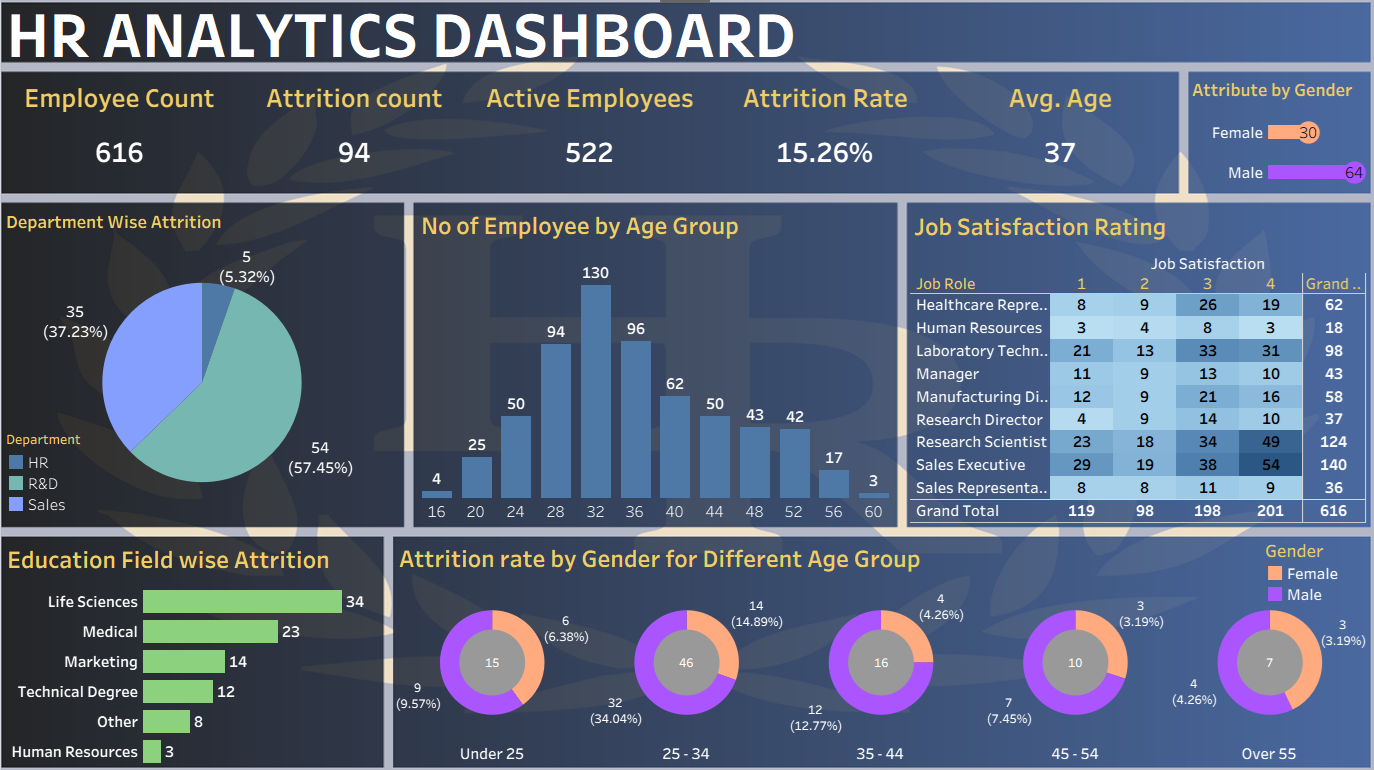

The page's visual inventory and layout, read from the dashboard file:
{"tool":"tableau","page":{"name":"Hr Analytics DashBoard","canvas":[1000,1000],"units":"permille","ordinal":0},"visuals":[{"type":"image","param":"C:/Users/Darahas/Downloads/HR background.png","box":[4.8,10,990.3,980]},{"type":"text","box":[88.1,23.7,525.6,72.4]},{"type":"worksheet","title":"Attribute by Gender","mark":"Automatic","rows":["Gender"],"cols":["Calculation_198721334134349824","Calculation_198721334134349824"],"box":[803.3,111.1,110.4,148.6]},{"type":"worksheet","title":"KPI","mark":"Automatic","box":[87.5,112.4,709.7,144.8]},{"type":"worksheet","title":"Department wise Attrition","mark":"Pie","box":[87.5,275.9,241.4,394.5]},{"type":"worksheet","title":"No of Employee by Age Group","mark":"Automatic","rows":["Employee Count"],"cols":["Age (bin)"],"box":[338,275.9,287.9,397]},{"type":"worksheet","title":"Job Satisfaction Rating","mark":"Square","rows":["Job Role"],"cols":["Job Satisfaction"],"box":[635.5,277.2,275.2,395.8]},{"type":"legend","title":"Department wise Attrition","param":"[federated.1pvep0o0px4wm916realb0cfxye9].[none:Department:nk]","box":[89.9,556.8,68.2,114.9]},{"type":"worksheet","title":"Attrition rate by Gender for Different Age Group","mark":"Pie","rows":["Calculation_198721334700163077","Calculation_198721334700163077"],"cols":["CF_age band"],"box":[324.7,691.6,586.6,283.4]},{"type":"legend","title":"Attrition rate by Gender for Different Age Group","param":"[federated.1pvep0o0px4wm916realb0cfxye9].[none:Gender:nk]","box":[849.7,691.6,60.4,83.7]},{"type":"worksheet","title":"Education Field wise Attrition","mark":"Automatic","rows":["Education Field"],"cols":["Calculation_198721334134349824"],"box":[88.1,692.9,229.3,283.4]}]}

Visuals, with their boxes on the dashboard's canvas, which has no fixed pixel size, in thousandths of its width and height (x1, y1, x2, y2). These are canvas units, not pixel positions in the 1374x770 screenshot, which may show the page scaled, cropped or inside an application window:
image: pyautogui.locateOnScreen(5, 10, 995, 990)
text: pyautogui.locateOnScreen(88, 24, 614, 96)
"Attribute by Gender" worksheet: pyautogui.locateOnScreen(803, 111, 914, 260)
"KPI" worksheet: pyautogui.locateOnScreen(88, 112, 797, 257)
"Department wise Attrition" worksheet (Pie marks): pyautogui.locateOnScreen(88, 276, 329, 670)
"No of Employee by Age Group" worksheet: pyautogui.locateOnScreen(338, 276, 626, 673)
"Job Satisfaction Rating" worksheet (Square marks): pyautogui.locateOnScreen(636, 277, 911, 673)
"Department wise Attrition" legend: pyautogui.locateOnScreen(90, 557, 158, 672)
"Attrition rate by Gender for Different Age Group" worksheet (Pie marks): pyautogui.locateOnScreen(325, 692, 911, 975)
"Attrition rate by Gender for Different Age Group" legend: pyautogui.locateOnScreen(850, 692, 910, 775)
"Education Field wise Attrition" worksheet: pyautogui.locateOnScreen(88, 693, 317, 976)
